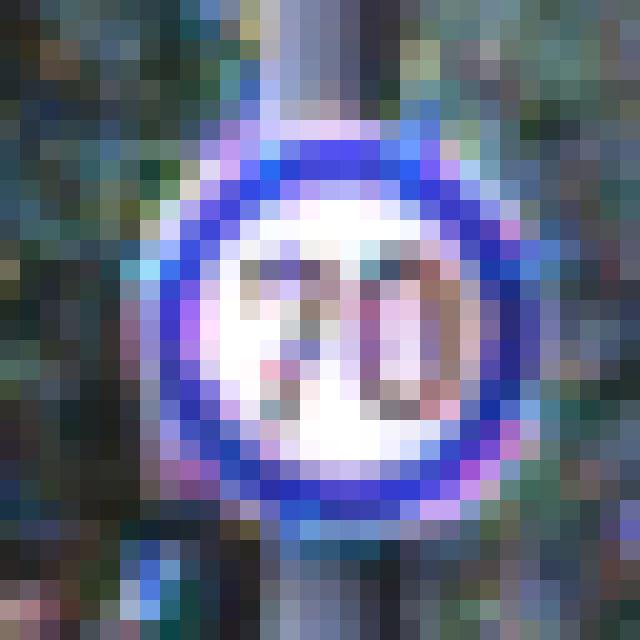SPEED LIMIT 70: (130, 153, 526, 520)
